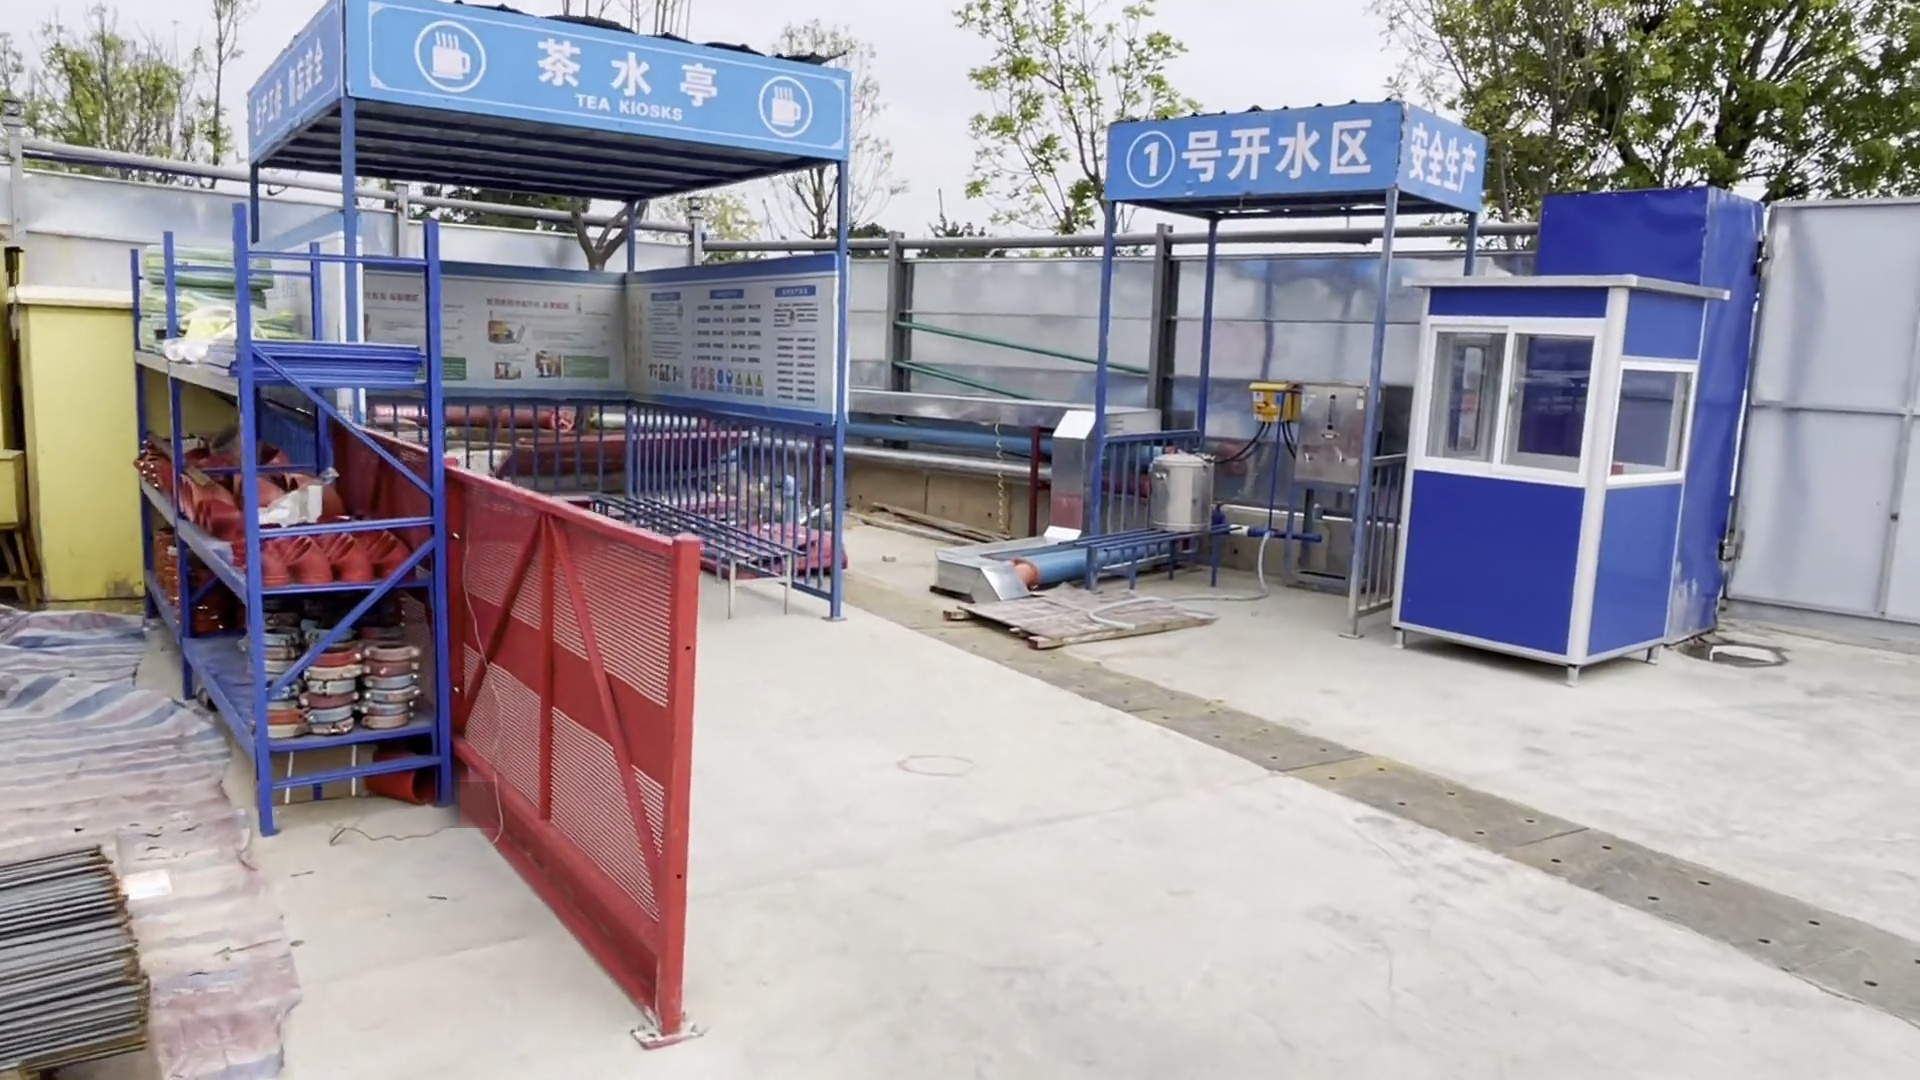ebox: (8, 281, 148, 615), (1246, 380, 1298, 419)
fence: (442, 459, 690, 1025)
rebar: (1, 844, 148, 1075)
slogan: (247, 7, 338, 156), (1398, 115, 1480, 207)
